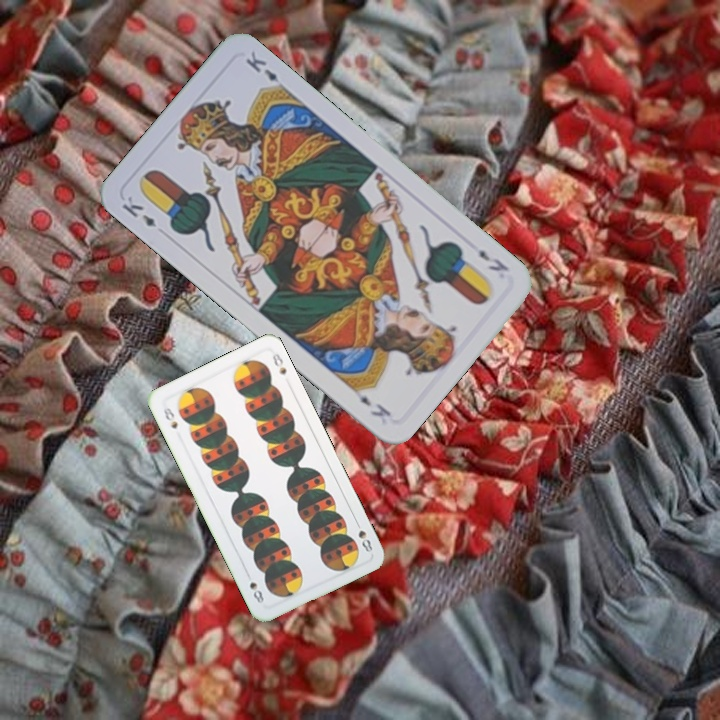EK: (118, 192, 159, 230), (474, 245, 512, 274)
S8: (351, 516, 375, 555), (159, 402, 180, 432)
